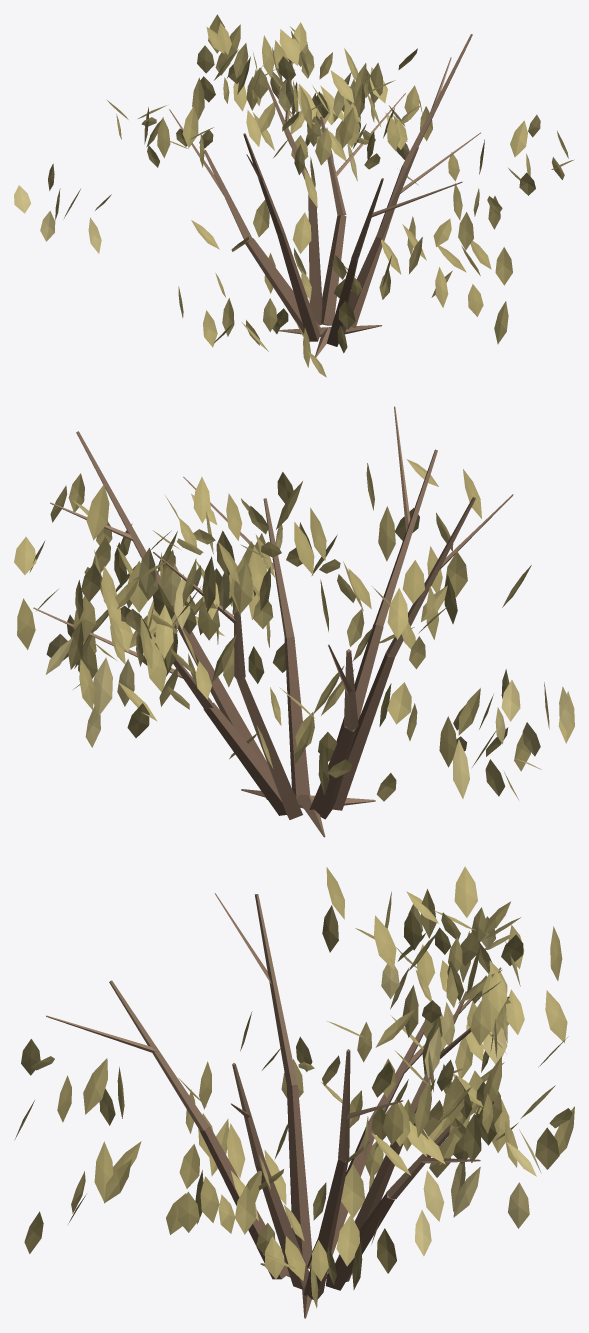
The model's file is bush_3d_06_yellow.glb.
The picture shows the model from 3 angles, top to bottom: view 1: azimuth 30°, elevation 25°; view 2: azimuth 150°, elevation 25°; view 3: azimuth 270°, elevation 25°; orthographic projection. The views are drawn at different scales.
Parts seen in each view (by area): view 1: bush_3d_06_yellow_foliage, bush_3d_06_yellow_wood; view 2: bush_3d_06_yellow_foliage, bush_3d_06_yellow_wood; view 3: bush_3d_06_yellow_foliage, bush_3d_06_yellow_wood.
Boxes of the visible parts, x1,y1,x2,y2 form: bush_3d_06_yellow_foliage: [14, 14, 574, 377]; bush_3d_06_yellow_wood: [169, 34, 480, 357]; bush_3d_06_yellow_foliage: [14, 459, 574, 801]; bush_3d_06_yellow_wood: [33, 406, 513, 837]; bush_3d_06_yellow_foliage: [14, 866, 574, 1308]; bush_3d_06_yellow_wood: [46, 893, 509, 1318].
Size of the model in its own units: 3.5 by 1.9 by 2.7.
